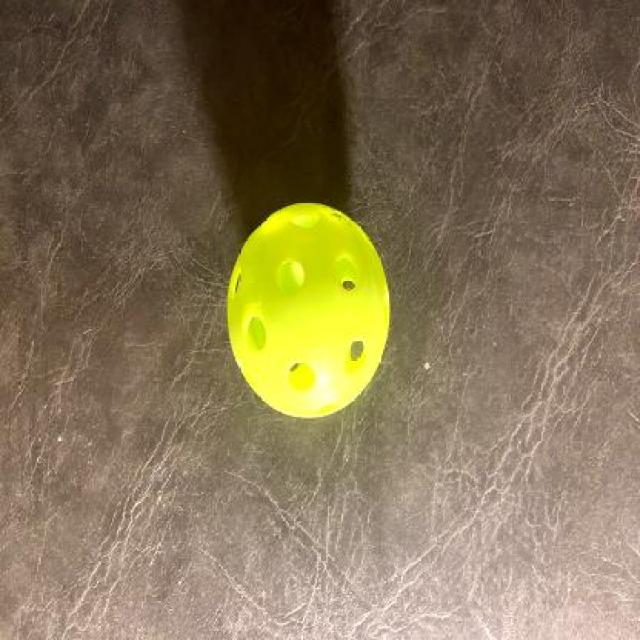ball: (218, 200, 404, 424)
